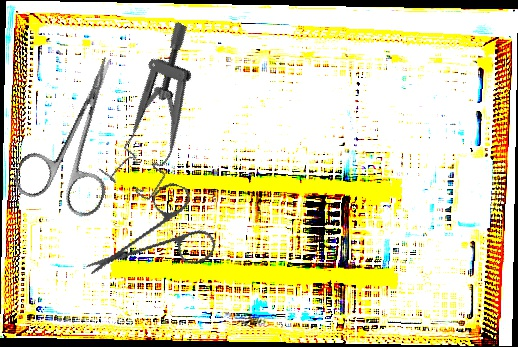Iris Scissors: (9, 41, 154, 223), (83, 165, 231, 309)
Speculum: (85, 20, 239, 204)
